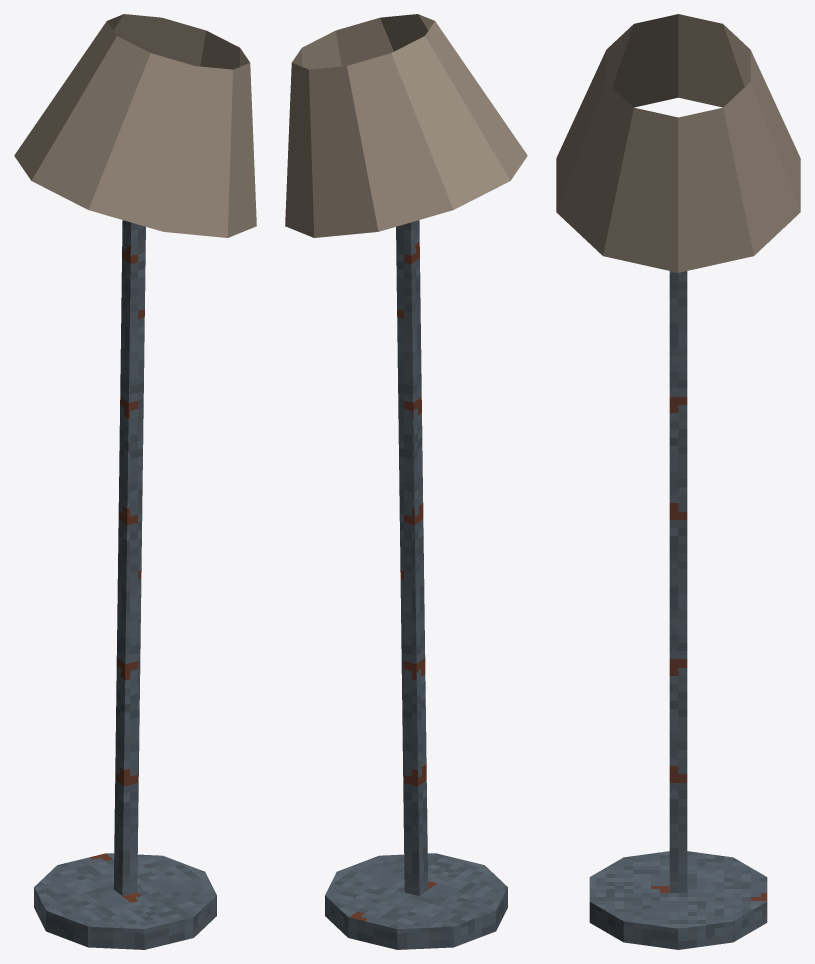
File: floor_lamp.gltf
3 views of the same model, side by side, from view 1: azimuth 30°, elevation 25°; view 2: azimuth 150°, elevation 25°; view 3: azimuth 270°, elevation 25° (orthographic).
Visible parts, largest first — view 1: floor_lamp; view 2: floor_lamp; view 3: floor_lamp.
Boxes of the visible parts, x1,y1,x2,y2 form: floor_lamp: (14,14,256,949); floor_lamp: (285,14,527,949); floor_lamp: (556,14,800,949).
Size of the model in its own units: 0.4194 by 1.69 by 0.4185.
Materials: 2 (1 with a texture image).
